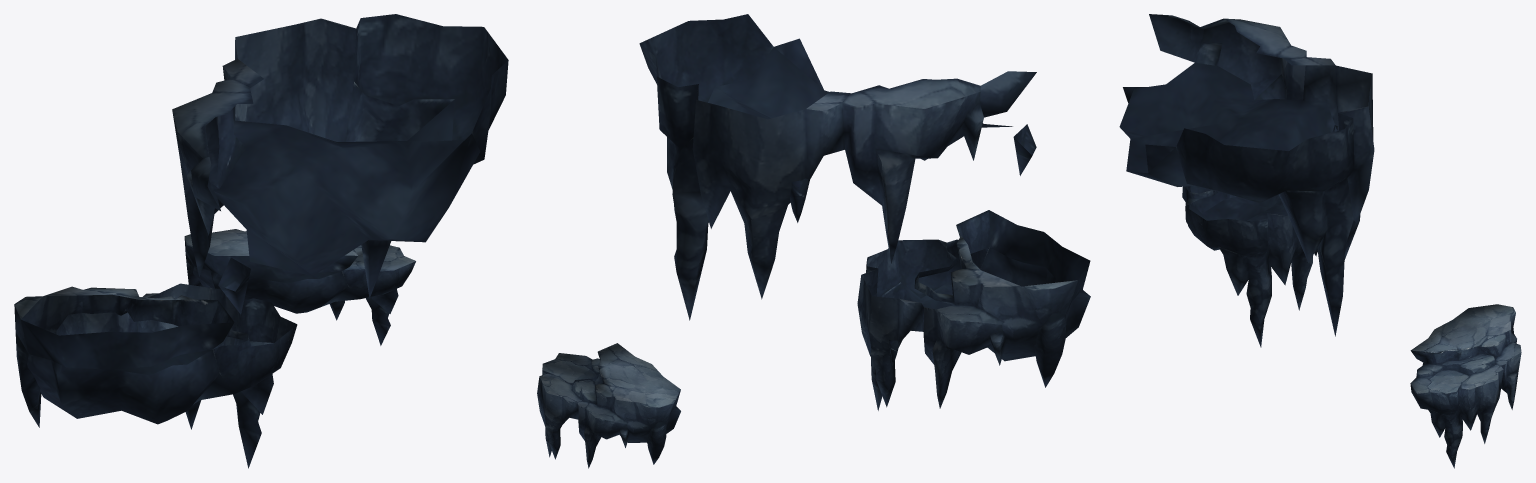
Rendered from Area_04_22.fbx.
The picture shows the model from 3 angles, left to right: view 1: azimuth 30°, elevation 25°; view 2: azimuth 150°, elevation 25°; view 3: azimuth 270°, elevation 25°; orthographic projection. The views are drawn at different scales.
Visible parts, largest first — view 1: Area_04_22; view 2: Area_04_22; view 3: Area_04_22.
Boxes of the visible parts, left/top/right/bottom form: Area_04_22: left=14, top=14, right=508, bottom=468; Area_04_22: left=537, top=14, right=1090, bottom=468; Area_04_22: left=1119, top=14, right=1521, bottom=468.
Size of the model in its own units: 5652 by 4414 by 4950.
